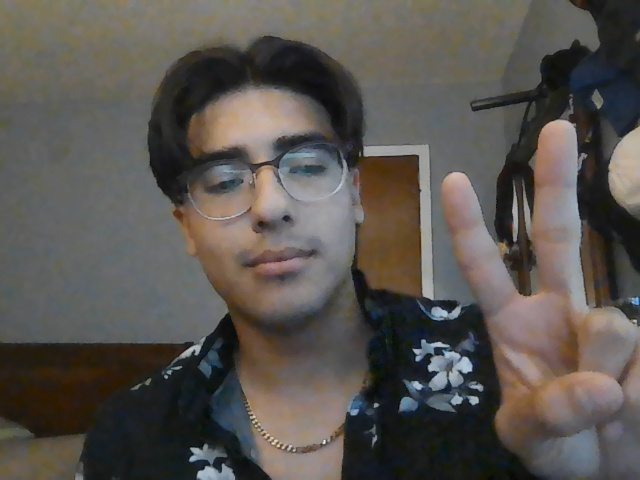PeaceSign: (439, 118, 640, 479)
